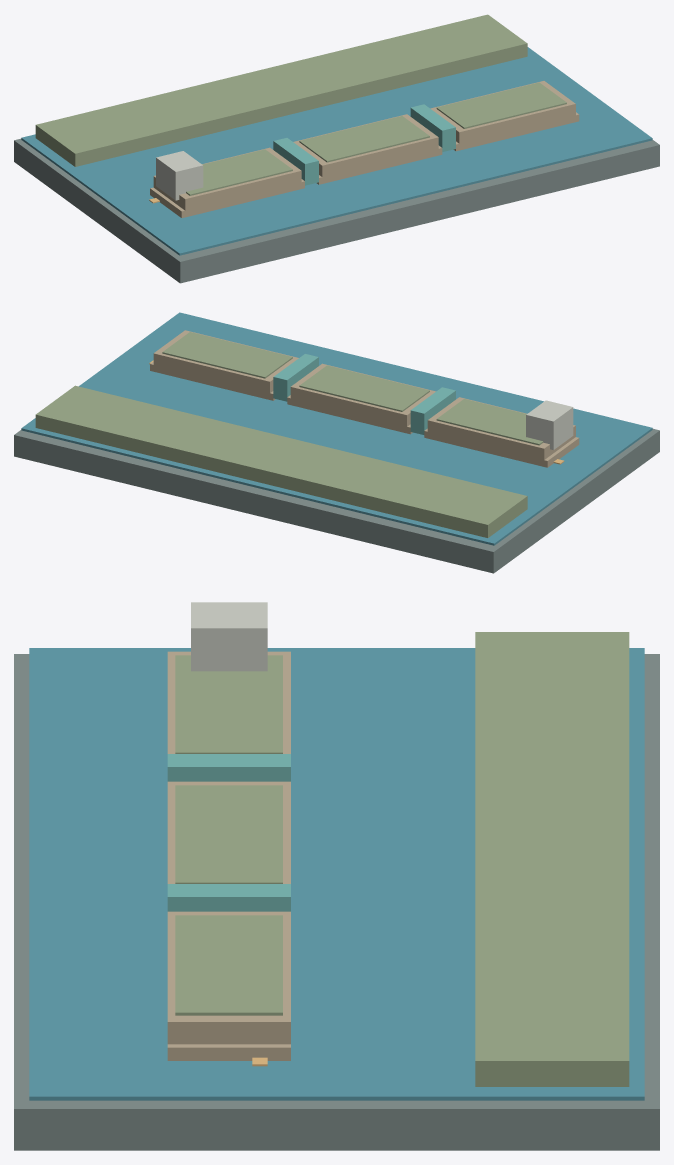
Rendered from world-coast.glb.
The picture shows the model from 3 angles, top to bottom: view 1: azimuth 30°, elevation 25°; view 2: azimuth 150°, elevation 25°; view 3: azimuth 270°, elevation 25°; orthographic projection. The views are drawn at different scales.
Visible parts, largest first — view 1: stage-0-water-section.006, stage-0-landscape.006, stage-0-excavated-strata.006, stage-3-landscape.006, stage-3-compacted-fill.006, stage-2-compacted-fill.006, stage-4-infrastructure-teal.006, stage-4-warm-concrete.006; view 2: stage-0-water-section.006, stage-0-landscape.006, stage-0-excavated-strata.006, stage-3-landscape.006, stage-3-compacted-fill.006, stage-2-compacted-fill.006, stage-4-infrastructure-teal.006, stage-4-warm-concrete.006; view 3: stage-0-water-section.006, stage-0-landscape.006, stage-0-excavated-strata.006, stage-3-landscape.006, stage-3-compacted-fill.006, stage-4-infrastructure-teal.006, stage-4-warm-concrete.006, stage-2-compacted-fill.006.
Part boxes in pixels (x1=…): stage-0-water-section.006: x1=21, y1=47, x2=652, y2=255; stage-0-landscape.006: x1=35, y1=14, x2=527, y2=166; stage-0-excavated-strata.006: x1=14, y1=138, x2=659, y2=283; stage-3-landscape.006: x1=186, y1=82, x2=566, y2=195; stage-3-compacted-fill.006: x1=153, y1=81, x2=575, y2=210; stage-2-compacted-fill.006: x1=150, y1=112, x2=579, y2=217; stage-4-infrastructure-teal.006: x1=273, y1=104, x2=455, y2=185; stage-4-warm-concrete.006: x1=156, y1=151, x2=203, y2=200; stage-0-water-section.006: x1=21, y1=312, x2=652, y2=545; stage-0-landscape.006: x1=35, y1=385, x2=527, y2=537; stage-0-excavated-strata.006: x1=14, y1=428, x2=659, y2=573; stage-3-landscape.006: x1=162, y1=332, x2=543, y2=445; stage-3-compacted-fill.006: x1=153, y1=330, x2=575, y2=462; stage-2-compacted-fill.006: x1=150, y1=361, x2=579, y2=467; stage-4-infrastructure-teal.006: x1=273, y1=354, x2=455, y2=434; stage-4-warm-concrete.006: x1=526, y1=400, x2=573, y2=449; stage-0-water-section.006: x1=29, y1=648, x2=644, y2=1100; stage-0-landscape.006: x1=475, y1=632, x2=629, y2=1086; stage-0-excavated-strata.006: x1=14, y1=654, x2=659, y2=1150; stage-3-landscape.006: x1=175, y1=655, x2=282, y2=1015; stage-3-compacted-fill.006: x1=167, y1=651, x2=290, y2=1044; stage-4-infrastructure-teal.006: x1=167, y1=754, x2=290, y2=911; stage-4-warm-concrete.006: x1=191, y1=602, x2=267, y2=671; stage-2-compacted-fill.006: x1=167, y1=1044, x2=290, y2=1060.
Bounding box in the file's own units: 70 × 9.5 × 42.
